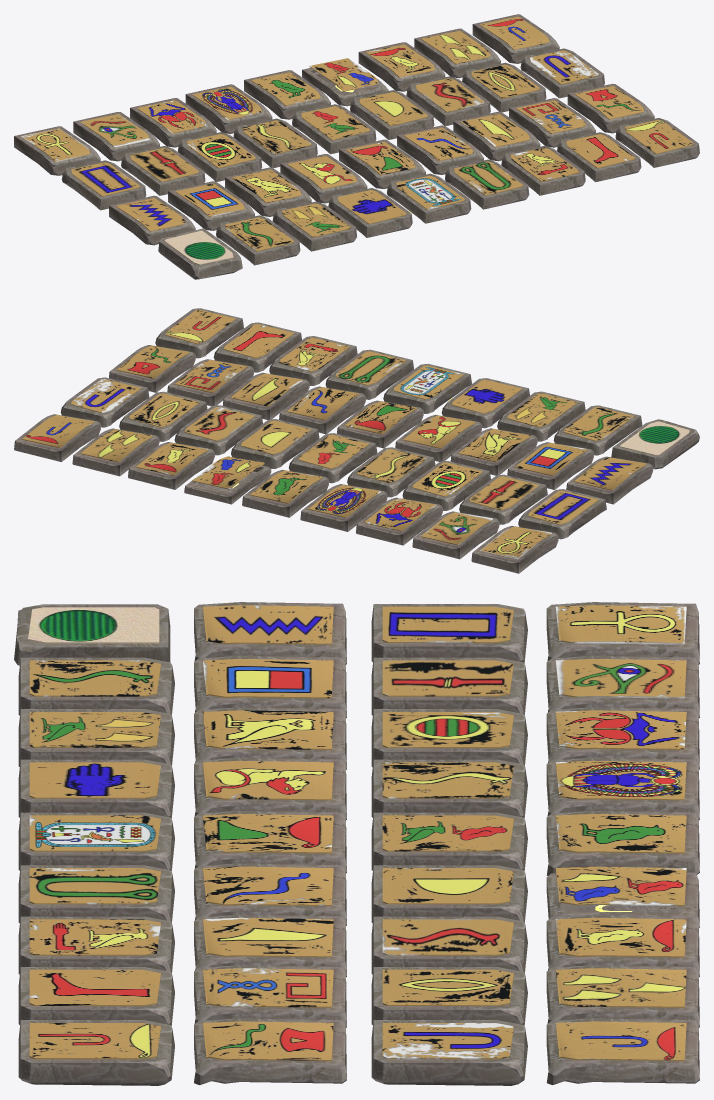
The model's file is Hieroglyphic Blocks.fbx.
The picture shows the model from 3 angles, top to bottom: view 1: azimuth 30°, elevation 25°; view 2: azimuth 150°, elevation 25°; view 3: azimuth 270°, elevation 25°; orthographic projection. The views are drawn at different scales.
Parts seen in each view (by area): view 1: stoneElements_04_lp__0.036, stoneElements_04_lp__0.002, stoneElements_04_lp__0.008, stoneElements_04_lp__0.016, stoneElements_04_lp__0.010, stoneElements_04_lp__0.006, stoneElements_04_lp__0.014, stoneElements_04_lp__0.004, stoneElements_04_lp__0.012, stoneElements_04_lp__0.026, stoneElements_04_lp__0.034, stoneElements_04_lp__0.018 (+24 smaller); view 2: stoneElements_04_lp__0.036, stoneElements_04_lp__0.032, stoneElements_04_lp__0.018, stoneElements_04_lp__0.034, stoneElements_04_lp__0.002, stoneElements_04_lp__0.008, stoneElements_04_lp__0.024, stoneElements_04_lp__0.010, stoneElements_04_lp__0.026, stoneElements_04_lp__0.016, stoneElements_03_lp__0.036, stoneElements_03_lp__0.026 (+24 smaller); view 3: stoneElements_04_lp__0.010, stoneElements_04_lp__0.026, stoneElements_03_lp__0.026, stoneElements_03_lp__0.010, stoneElements_03_lp__0.018, stoneElements_04_lp__0.034, stoneElements_04_lp__0.004, stoneElements_04_lp__0.020, stoneElements_04_lp__0.002, stoneElements_04_lp__0.018, stoneElements_04_lp__0.036, stoneElements_03_lp__0.036 (+24 smaller).
Boxes of the visible parts, x1,y1,x2,y2 form: stoneElements_04_lp__0.036: [158, 228, 242, 279]; stoneElements_04_lp__0.002: [387, 173, 471, 223]; stoneElements_04_lp__0.008: [216, 215, 300, 265]; stoneElements_04_lp__0.016: [445, 159, 529, 209]; stoneElements_04_lp__0.010: [615, 118, 699, 167]; stoneElements_04_lp__0.006: [272, 201, 356, 251]; stoneElements_04_lp__0.014: [501, 145, 585, 195]; stoneElements_04_lp__0.004: [328, 188, 412, 237]; stoneElements_04_lp__0.012: [557, 132, 641, 182]; stoneElements_04_lp__0.026: [520, 48, 604, 98]; stoneElements_04_lp__0.034: [61, 160, 146, 210]; stoneElements_04_lp__0.018: [292, 104, 376, 154]; stoneElements_04_lp__0.036: [611, 419, 699, 469]; stoneElements_04_lp__0.032: [231, 419, 319, 468]; stoneElements_04_lp__0.018: [289, 433, 377, 483]; stoneElements_04_lp__0.034: [518, 489, 606, 539]; stoneElements_04_lp__0.002: [383, 363, 471, 413]; stoneElements_04_lp__0.008: [553, 405, 642, 455]; stoneElements_04_lp__0.024: [459, 474, 547, 524]; stoneElements_04_lp__0.010: [155, 308, 243, 358]; stoneElements_04_lp__0.026: [60, 377, 149, 427]; stoneElements_04_lp__0.016: [325, 349, 413, 399]; stoneElements_03_lp__0.036: [471, 526, 558, 573]; stoneElements_03_lp__0.026: [14, 414, 101, 461]; stoneElements_04_lp__0.010: [18, 1020, 174, 1085]; stoneElements_04_lp__0.026: [371, 1020, 527, 1085]; stoneElements_03_lp__0.026: [546, 1018, 699, 1084]; stoneElements_03_lp__0.010: [194, 1018, 346, 1084]; stoneElements_03_lp__0.018: [546, 811, 699, 875]; stoneElements_04_lp__0.034: [371, 604, 527, 663]; stoneElements_04_lp__0.004: [18, 759, 174, 818]; stoneElements_04_lp__0.020: [371, 759, 527, 818]; stoneElements_04_lp__0.002: [18, 812, 174, 871]; stoneElements_04_lp__0.018: [371, 812, 527, 871]; stoneElements_04_lp__0.036: [14, 604, 170, 665]; stoneElements_03_lp__0.036: [546, 602, 699, 664].
Size of the model in its own units: 674 by 19.3 by 423.
3 materials, 2 textured.
